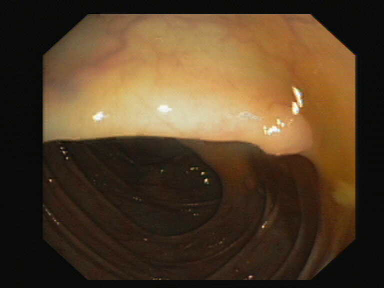polyp: (243, 76, 324, 173)
